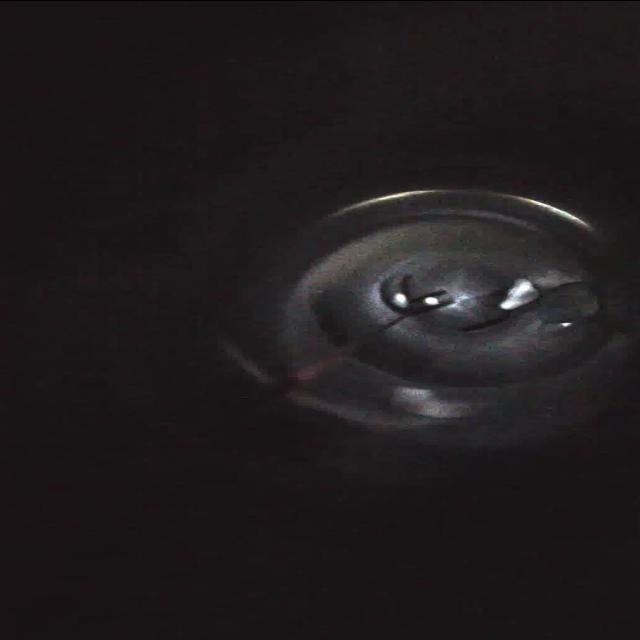impurity: (538, 278, 606, 324), (496, 273, 540, 313)
